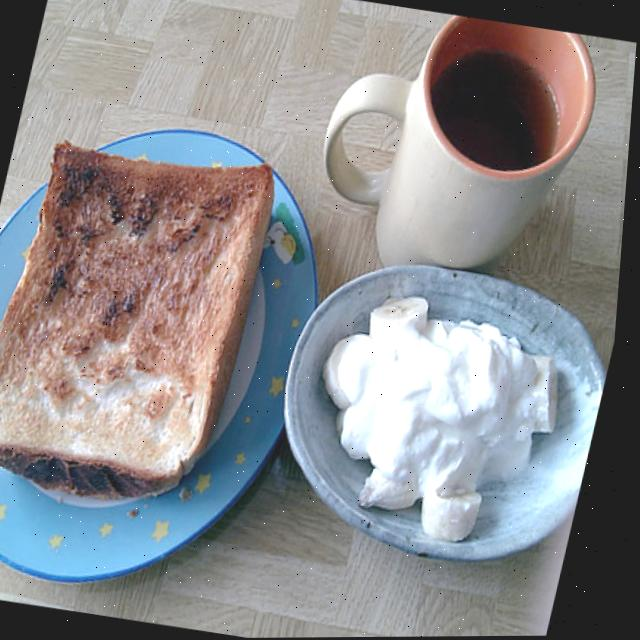面包点心: (0, 123, 284, 511)
